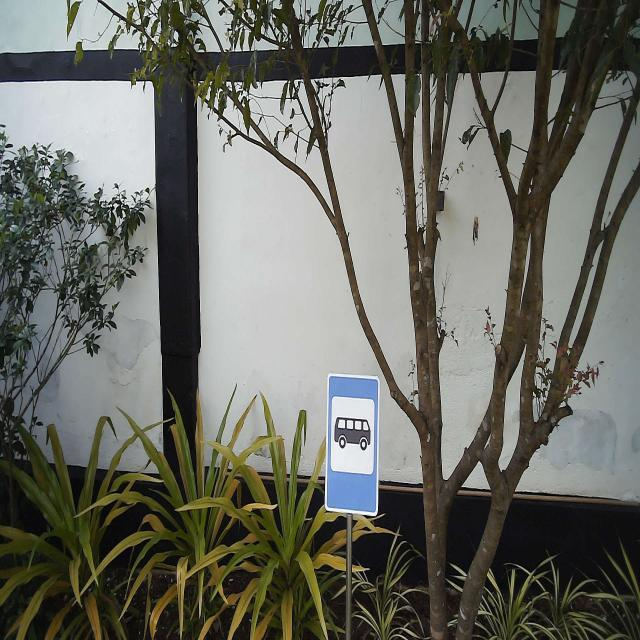bus_stop: (324, 373, 382, 518)
